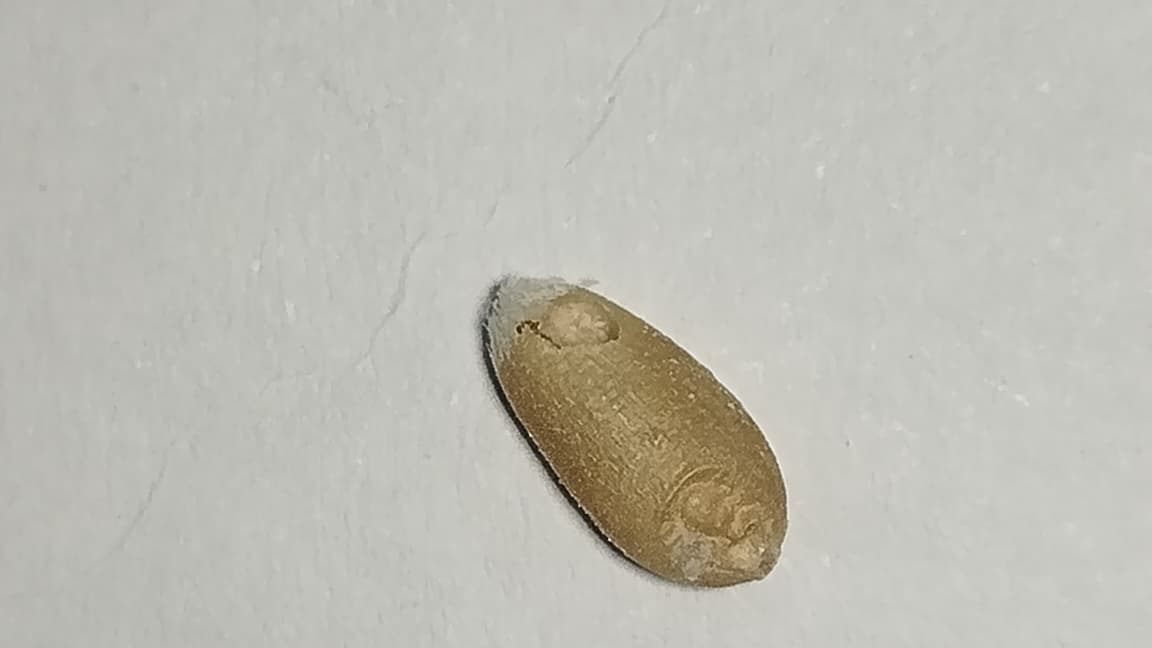damage: (486, 278, 786, 585)
insectdamage: (505, 263, 643, 364), (660, 471, 781, 585)
